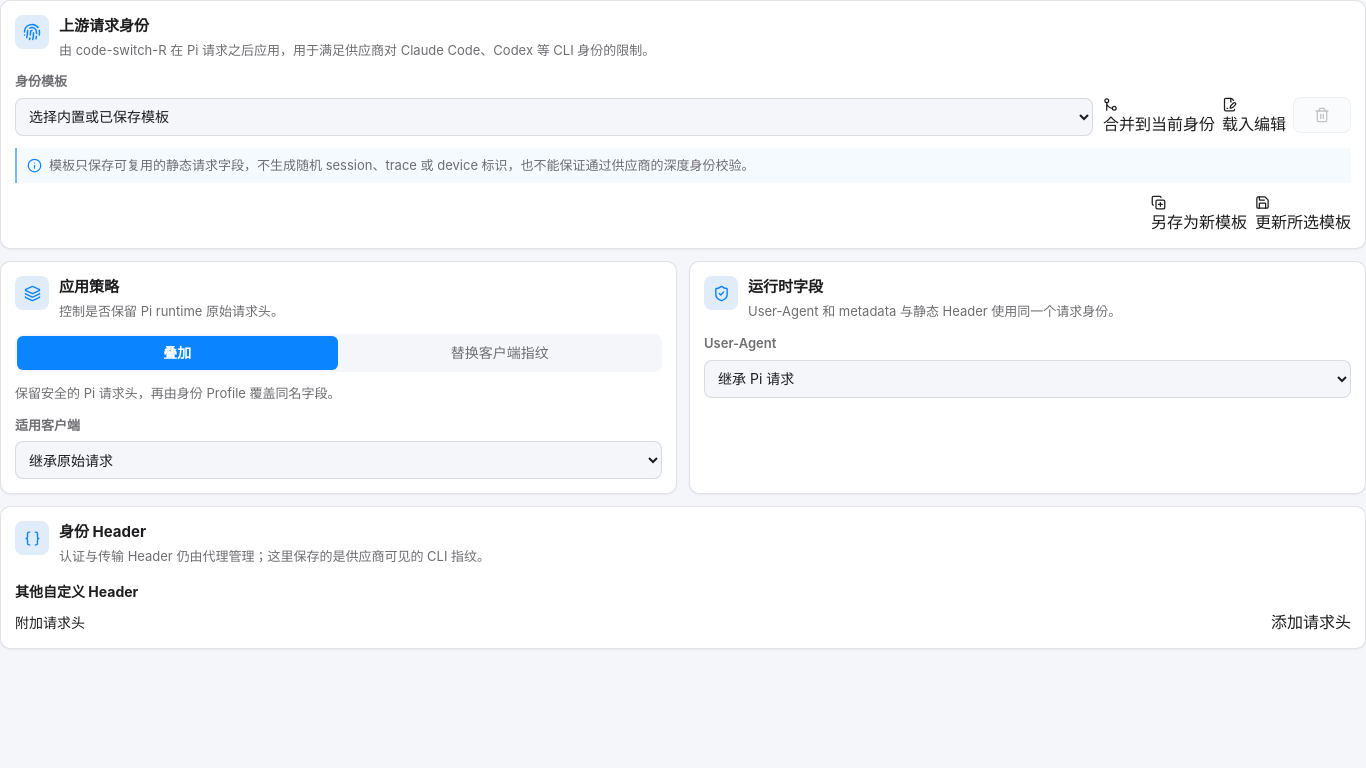
it: PiRequestIdentityEditor › allows selecting an incompatible template and explains how to edit it
The width and height of the screenshot is (1366, 768).
Select "Claude strict · Anthropic Messages · 当前协议不匹配" in the dropdown labelled "身份模板": (554, 116) [15, 98, 1093, 136]
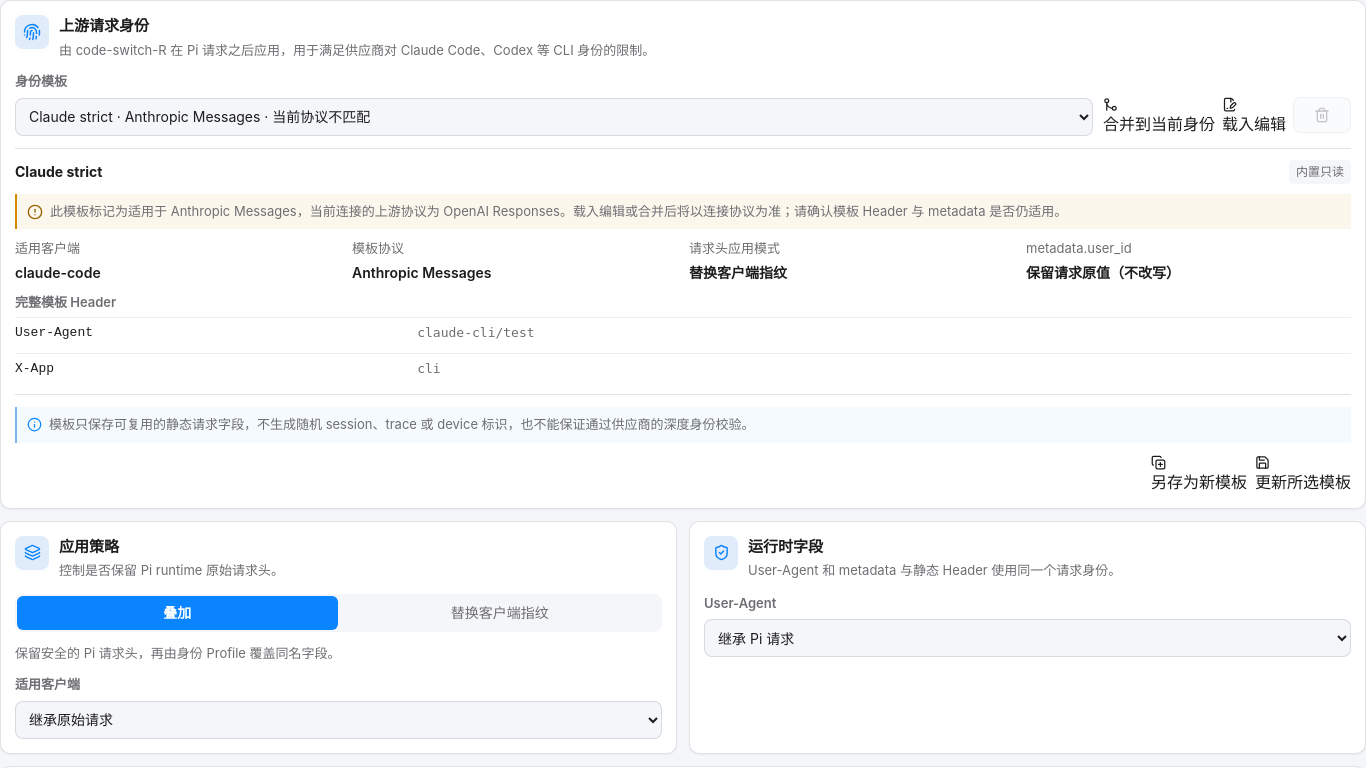
Expected: the text "OpenAI Responses" is shown, [50, 202, 1067, 218]
Expected: the text "载入编辑" is shown, [50, 202, 1067, 218]
